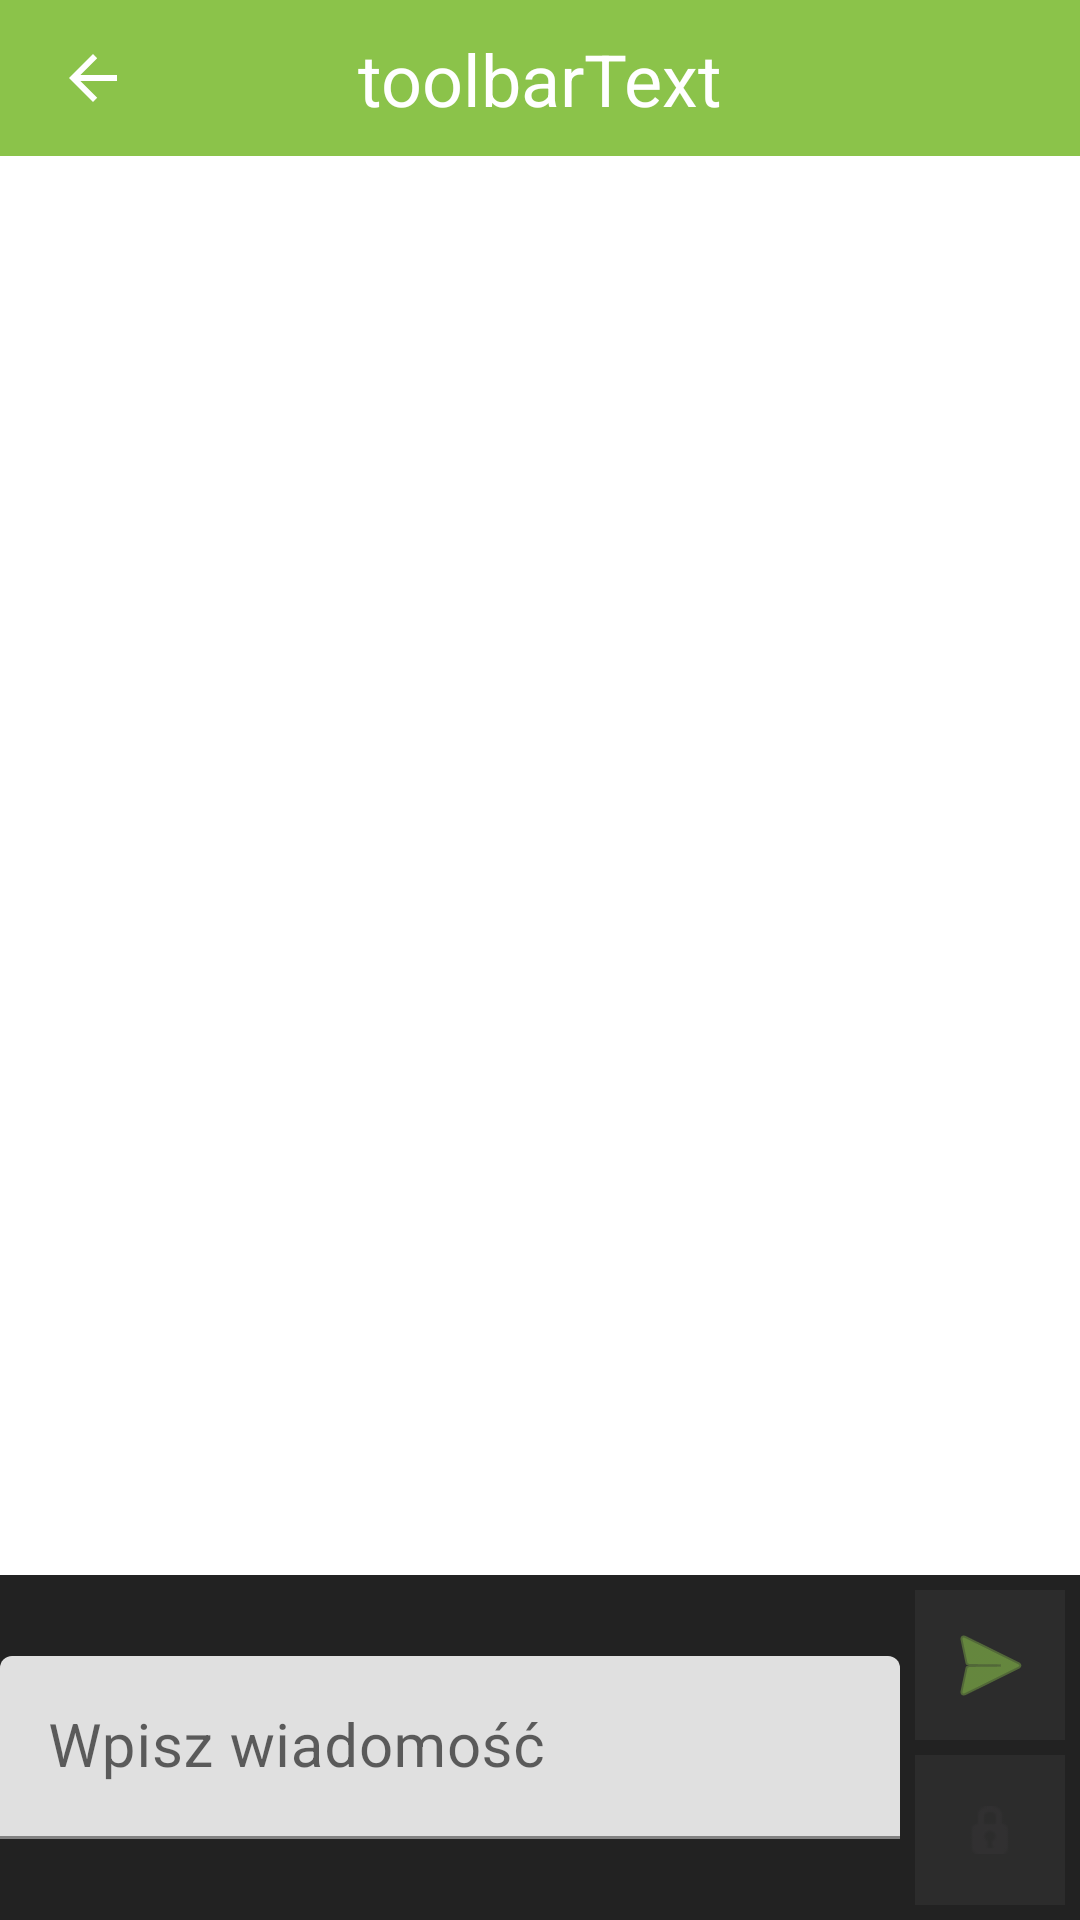

Named icons in this screenshot (1080x1920) and their centers, (x=x, y=y):
send: (x=991, y=1665)
